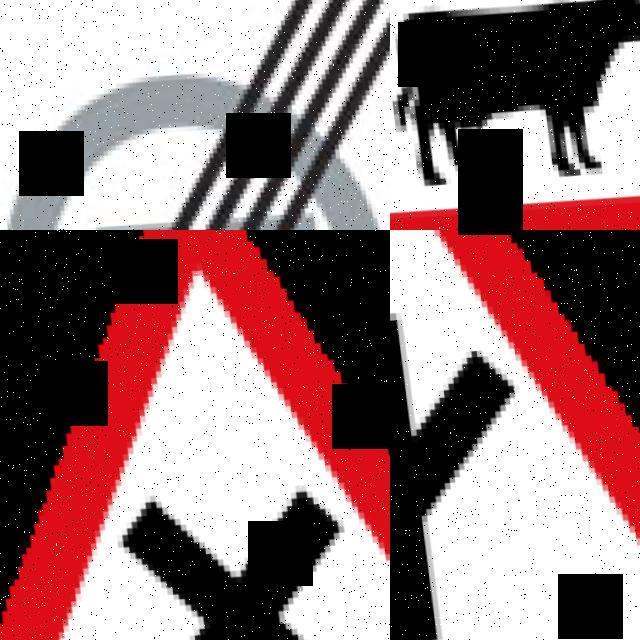111: (0, 0, 390, 230)
Cattle: (390, 0, 640, 230)
Crossroads: (0, 230, 390, 640)
Oblique side road junction: (390, 230, 640, 640)
